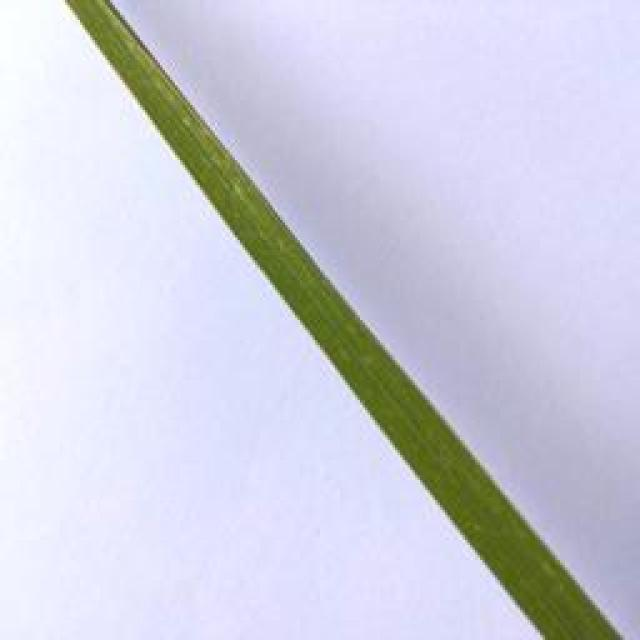Healthy-Plant: (68, 0, 621, 640)
